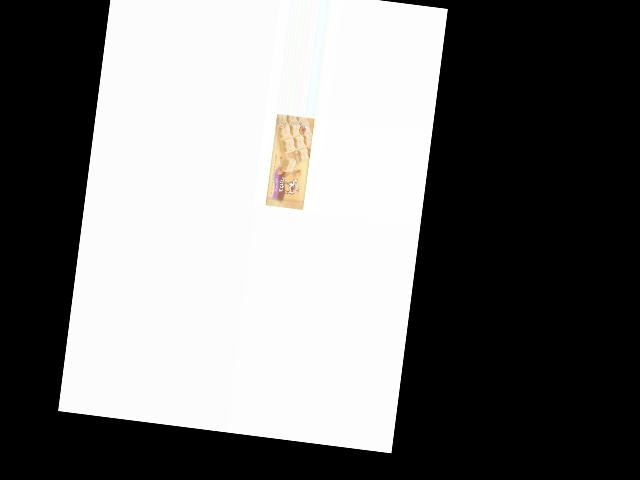chocolate: (262, 113, 314, 212)
